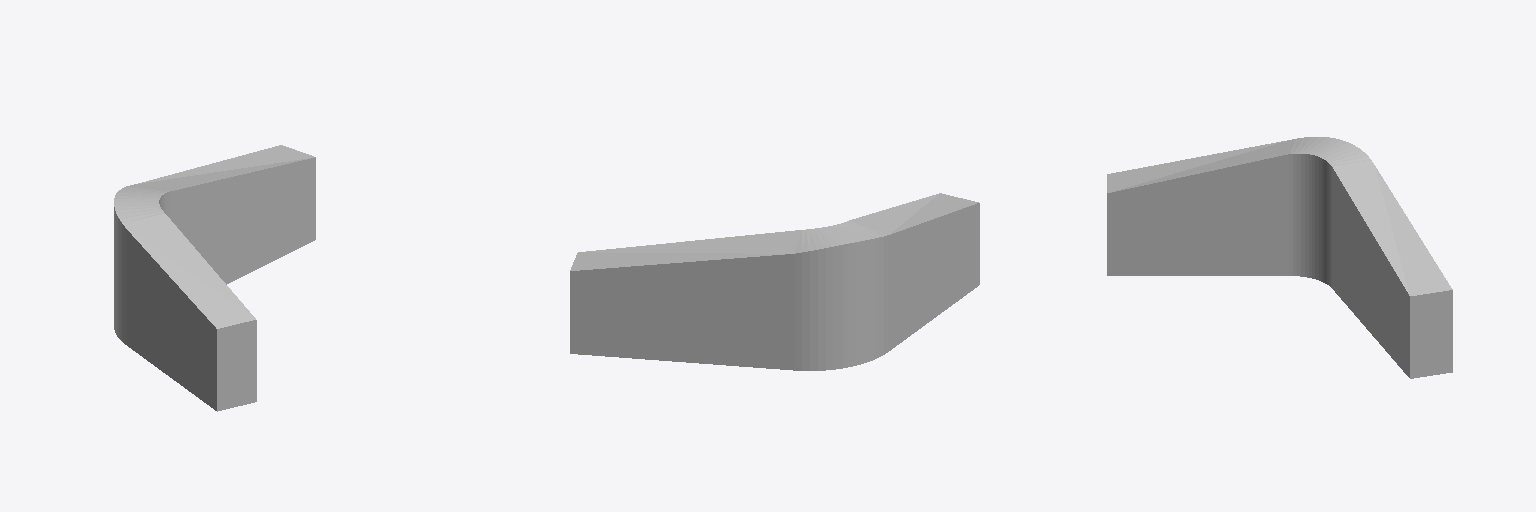
The model's file is guideRailRight.obj.
3 views of the same model, side by side, from view 1: azimuth 30°, elevation 25°; view 2: azimuth 150°, elevation 25°; view 3: azimuth 270°, elevation 25° (orthographic).
Visible parts, largest first — view 1: EntryGuide.010_Cube.122; view 2: EntryGuide.010_Cube.122; view 3: EntryGuide.010_Cube.122.
Boxes of the visible parts, x1=… form: EntryGuide.010_Cube.122: x1=114, y1=145, x2=315, y2=411; EntryGuide.010_Cube.122: x1=570, y1=193, x2=979, y2=370; EntryGuide.010_Cube.122: x1=1107, y1=137, x2=1452, y2=378.
Bounding box in the file's own units: 3.18 × 1.5 × 3.79.